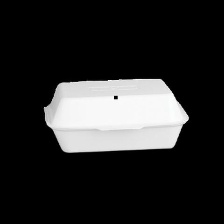foam_box: (33, 70, 194, 157)
